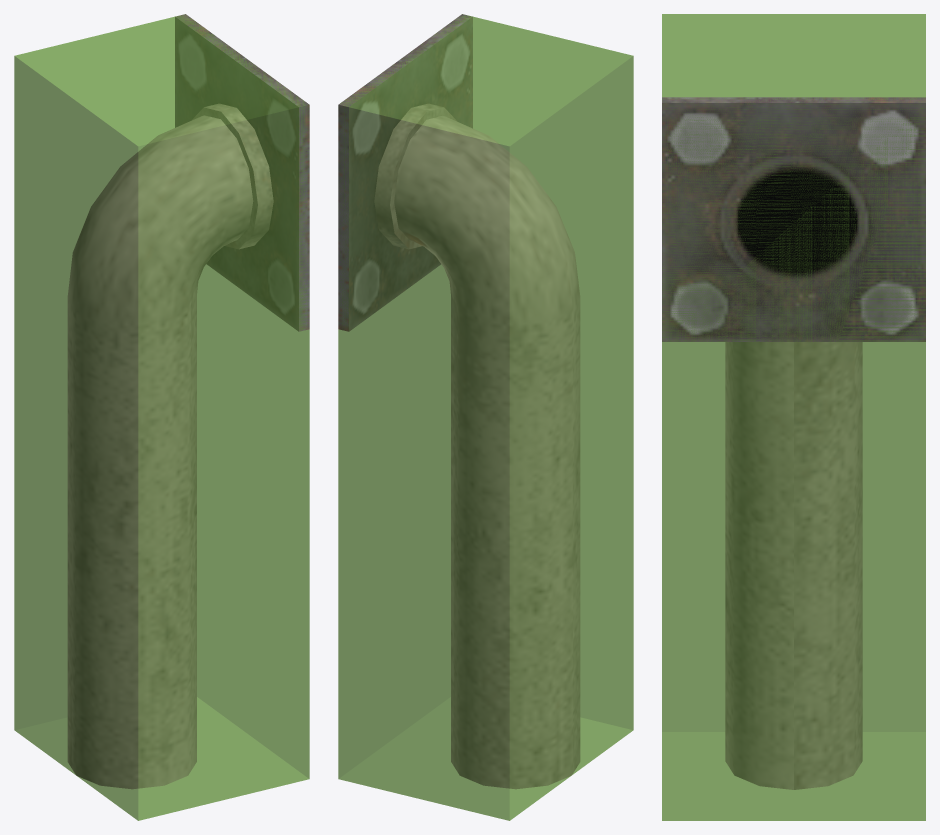
File: p_PipeEnd_01_a.fbx
The picture shows the model from 3 angles, left to right: view 1: azimuth 30°, elevation 25°; view 2: azimuth 150°, elevation 25°; view 3: azimuth 270°, elevation 25°; orthographic projection. The views are drawn at different scales.
Visible parts, largest first — view 1: p_PipeEnd_01_a_col_01, p_PipeEnd_01_a_LOD0; view 2: p_PipeEnd_01_a_col_01, p_PipeEnd_01_a_LOD0; view 3: p_PipeEnd_01_a_col_01, p_PipeEnd_01_a_LOD0.
Boxes of the visible parts, box(x1,y1,x2,y2) form: p_PipeEnd_01_a_col_01: box(14, 14, 309, 820); p_PipeEnd_01_a_LOD0: box(67, 14, 309, 789); p_PipeEnd_01_a_col_01: box(338, 14, 633, 820); p_PipeEnd_01_a_LOD0: box(338, 14, 580, 789); p_PipeEnd_01_a_col_01: box(662, 14, 925, 820); p_PipeEnd_01_a_LOD0: box(662, 97, 925, 789).
Size of what is drawn, in the model's own units: 3.83 by 14.4 by 4.79.
